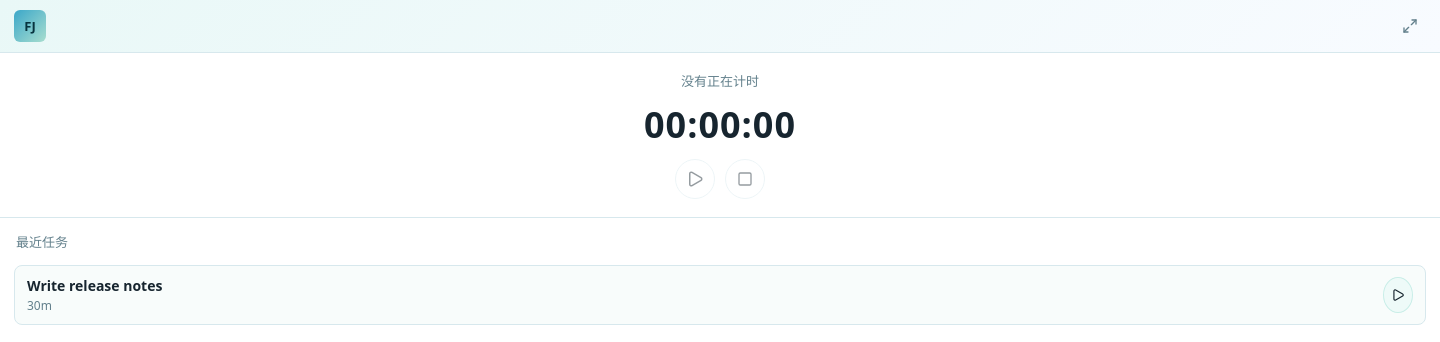
Scenario: shows a toast after starting a task
Expected: the text "Write release notes" is shown, [27,276,162,295]
What coordinates should you click on to do the following:
click the button with class "mini-task-play"
I would click on:
 (1398, 295)
Its box is [1383,277,1413,313].
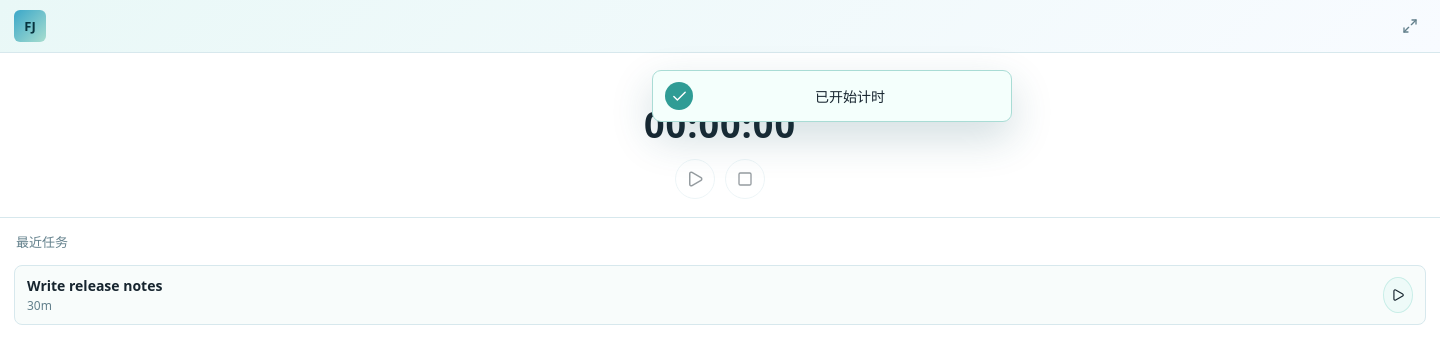
Now the message "已开始计时" is shown, box [652,70,1012,122]
